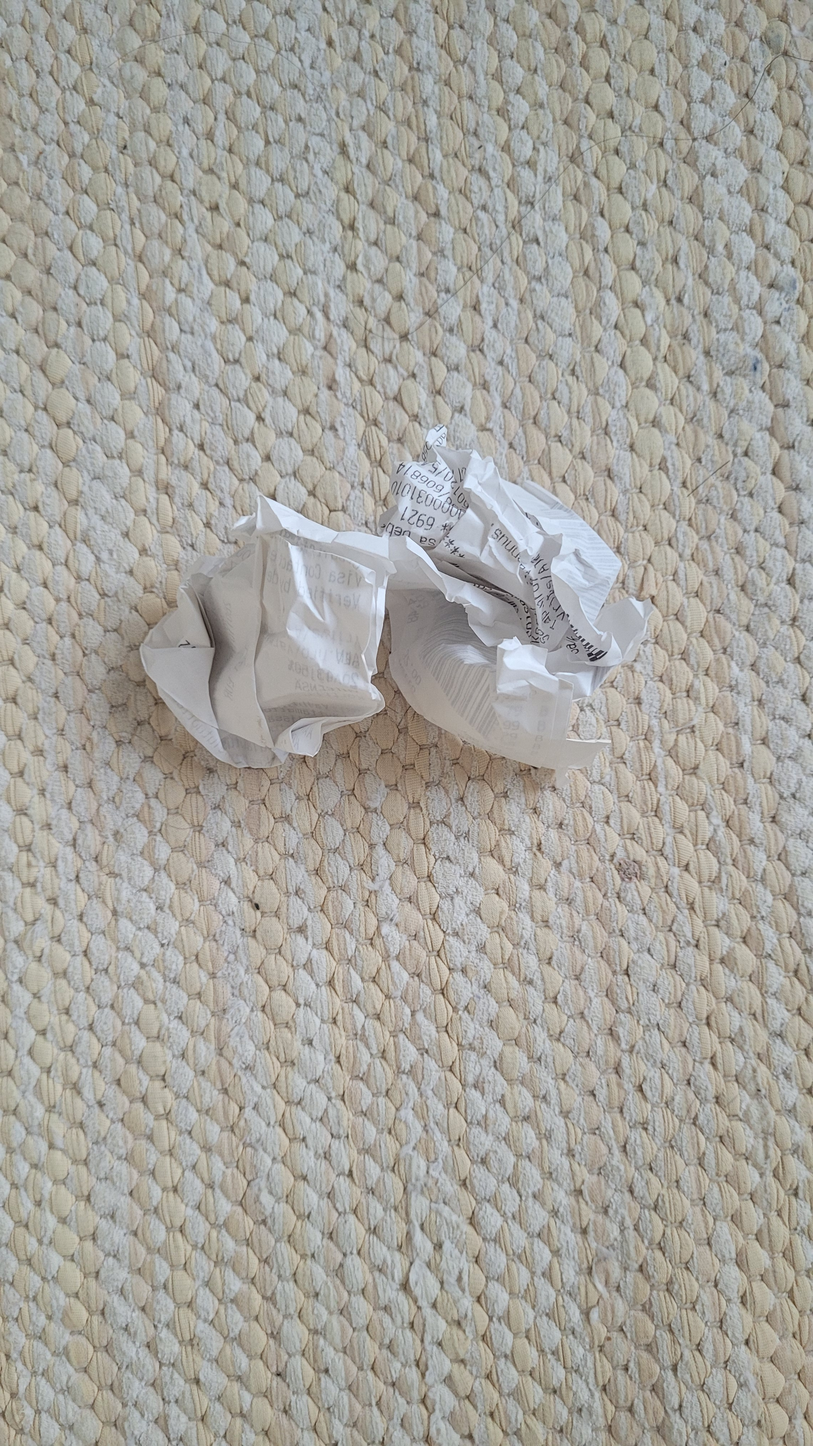paper: (130, 420, 671, 789)
